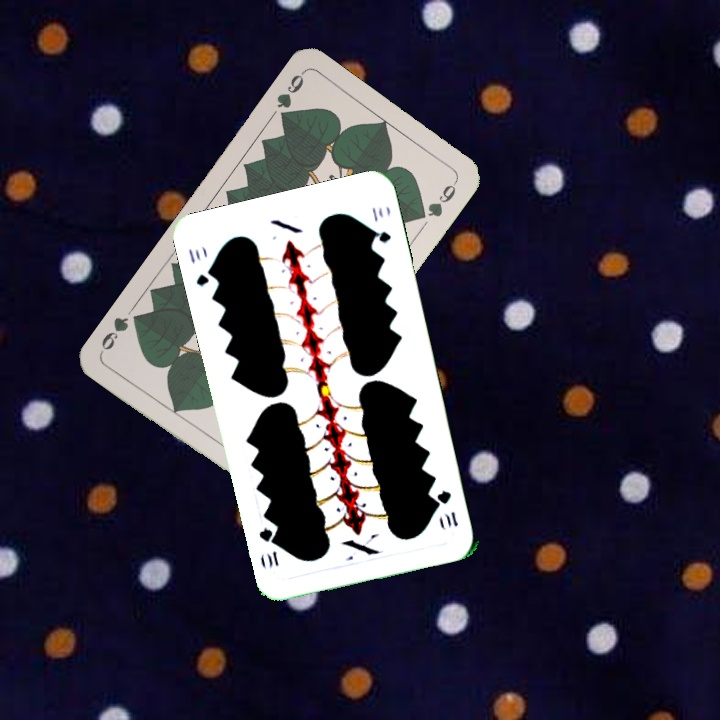G10: (185, 245, 217, 289), (433, 486, 461, 531)
G9: (272, 68, 307, 126)
